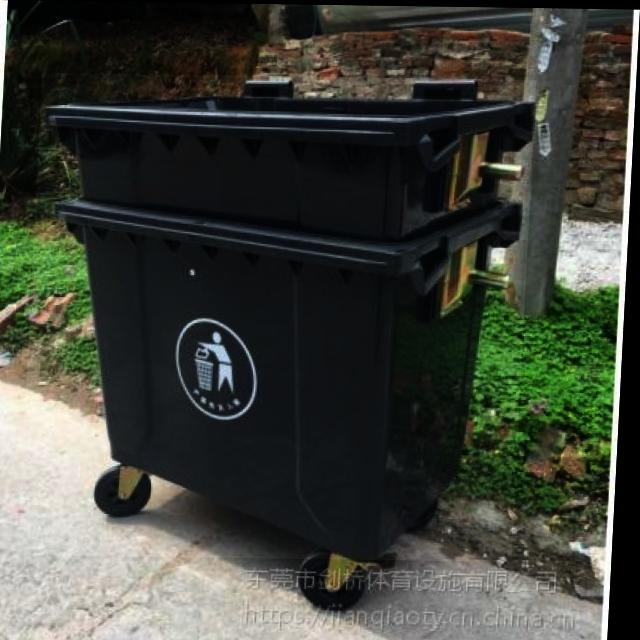garbage_bin: (24, 73, 537, 560)
